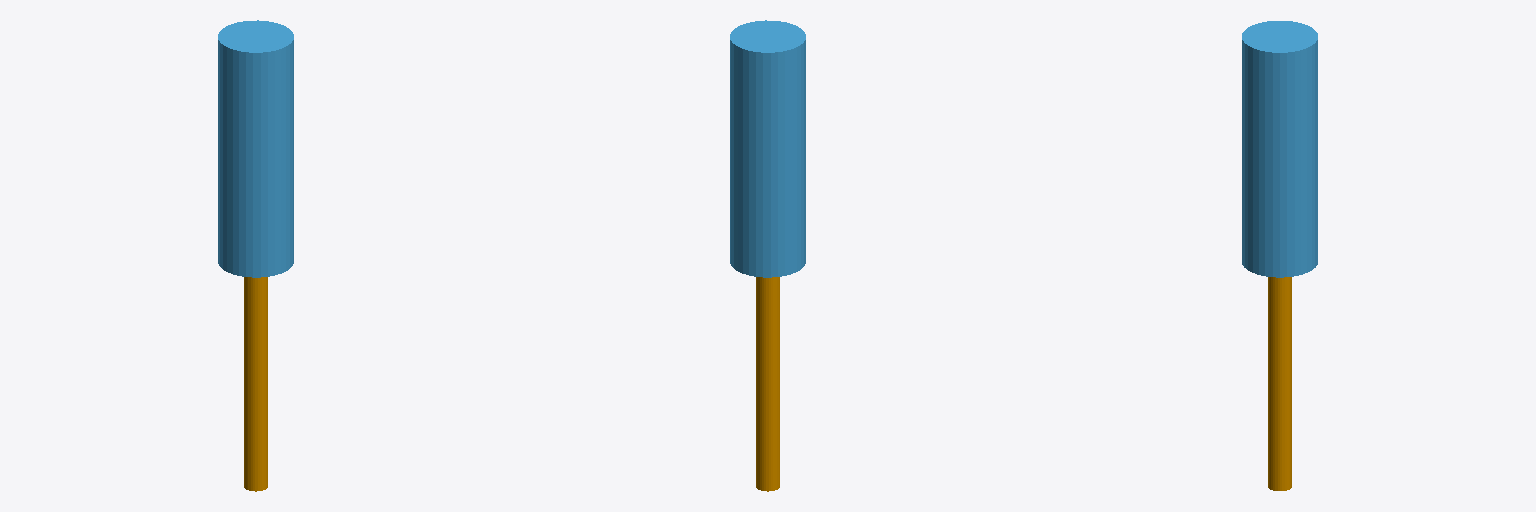
URDF robot description (screwdriver_on_the_table):
<?xml version="1.0" ?>
<!-- this is the one without any virtual joints and links -->
<robot name="screwdriver_on_the_table">
<link name="screwdriver_stick">
    <inertial>
      <mass value="0.05"/>
      <!-- <friction value="1.0"/> -->
      <inertia ixx="0.000041979" ixy="0.0" ixz="0.0" iyy="0.000041979" iyz="0.0" izz="0.000000625"/>
    </inertial>
    <visual>
        <origin rpy="0 0 0" xyz="0 0 0.05"/>
        <geometry>
            <cylinder radius="0.005" length="0.1"/>
        </geometry>
        <!-- <material name="White">
	 	    <color rgba="0.9 0.9 0.9 0.5"/>
        </material> -->
    </visual>
    <collision>
        <origin rpy="0 0 0" xyz="0 0 0.05"/>
        <geometry>
            <cylinder radius="0.005" length="0.1"/>
        </geometry>
    </collision>
</link>

<gazebo reference="screwdriver_body">
    <mu1>0.886327</mu1>
    <mu2>0.434241</mu2>
    <!-- Isaac Sim maps mu1/mu2 to PhysX static/dynamic friction during URDF→USD import -->
</gazebo>

<joint name="screwdriver_stick_body_joint" type="fixed">
    <parent link="screwdriver_stick"/>
    <child link="screwdriver_body"/>
    <origin rpy="0 0 0" xyz="0 0 0.1"/> 
    <axis xyz="0 0 1"/>
</joint>

<link name="screwdriver_body">
    <inertial>
      <mass value="0.139842"/>
      <inertia ixx="0.000124874" ixy="0.0" ixz="0.0" iyy="0.000124874" iyz="0.0" izz="0.000016679"/>
    </inertial>
    <visual>
        <origin rpy="0 0 0" xyz="0 0 0.05"/>
        <geometry>
            <cylinder radius="0.015445" length="0.1"/>
        </geometry>
        <!-- <material name="Red1">
	 	    <color rgba="0.9 0. 0. 0.5"/>
        </material> -->
    </visual>
    <collision>
        <origin rpy="0 0 0" xyz="0 0 0.05"/>
        <geometry>
            <cylinder radius="0.015445" length="0.1"/>
        </geometry>
    </collision>
</link>

<!-- <joint name="screwdriver_body_cap_joint" type="revolute">
    <parent link="screwdriver_body"/>
    <child link="screwdriver_cap"/>
    <origin rpy="0 0 0" xyz="0 0 0.1"/> 
    <axis xyz="0 0 1"/>
</joint>

<link name="screwdriver_cap">
    <inertial>
      <mass value="0.005"/>
      <inertia ixx="0.00001" ixy="0.0" ixz="0.0" iyy="0.000005" iyz="0.0" izz="0.000005"/>
    </inertial>
    <visual>
        <origin rpy="0 0 0" xyz="0 0 0.0006"/>
        <geometry>
            <cylinder radius="0.02" length="0.001"/>
        </geometry>
        <material name="Yellow">
	 	    <color rgba="0.9 0.9 0. 1.0"/>
        </material>
    </visual>
    <collision>
        <origin rpy="0 0 0" xyz="0 0 0.0005"/>
        <geometry>
            <cylinder radius="0.02" length="0.001"/>
        </geometry>
    </collision>
</link> -->

</robot>

--- Facts derived from the render (not from the file) ---
The picture shows the robot from 3 angles, left to right: view 1: azimuth 30°, elevation 25°; view 2: azimuth 150°, elevation 25°; view 3: azimuth 270°, elevation 25°; orthographic projection.
Model screwdriver_on_the_table with 2 links and 1 joints (1 fixed), rooted at screwdriver_stick, posed all joints at 0.
Links seen in each view (by area): view 1: screwdriver_body, screwdriver_stick; view 2: screwdriver_body, screwdriver_stick; view 3: screwdriver_body, screwdriver_stick.
Link boxes in pixels (<box>): screwdriver_body: <box>218,20,293,277</box>; screwdriver_stick: <box>244,277,267,491</box>; screwdriver_body: <box>730,20,805,277</box>; screwdriver_stick: <box>756,277,779,491</box>; screwdriver_body: <box>1242,21,1317,277</box>; screwdriver_stick: <box>1268,277,1291,490</box>.
Bounding box of the posed robot: 0.0309 × 0.0309 × 0.2 m (x, y, z).
Geometry: primitives only (box / cylinder / sphere), no mesh files.
